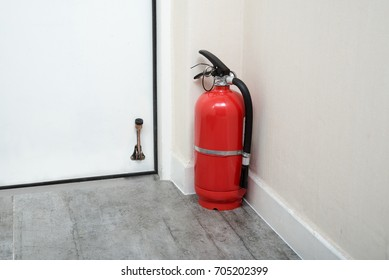fire_extinguisher: (190, 49, 253, 211)
